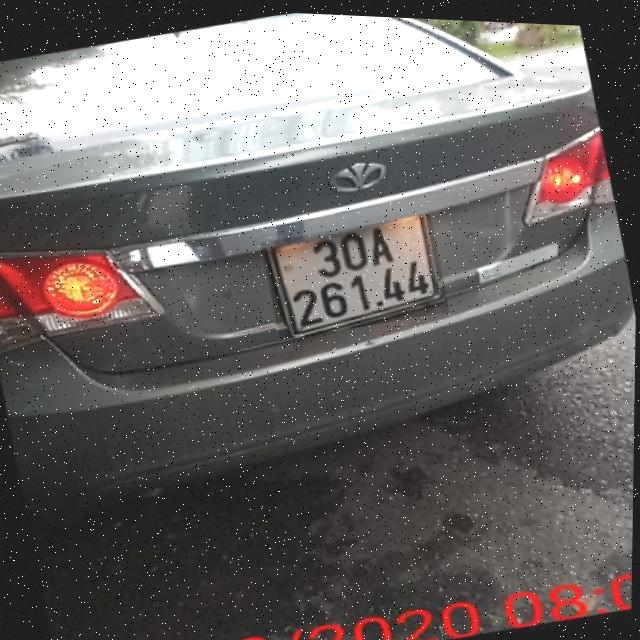car: (0, 0, 640, 547)
plate: (264, 200, 457, 346)
